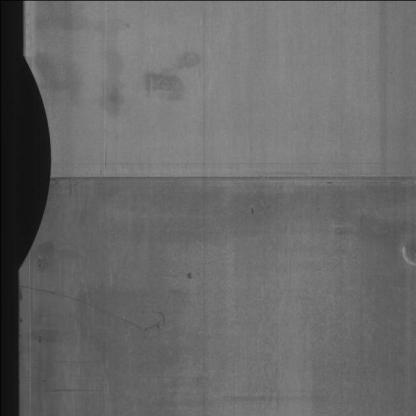welding_line: (44, 163, 416, 199)
